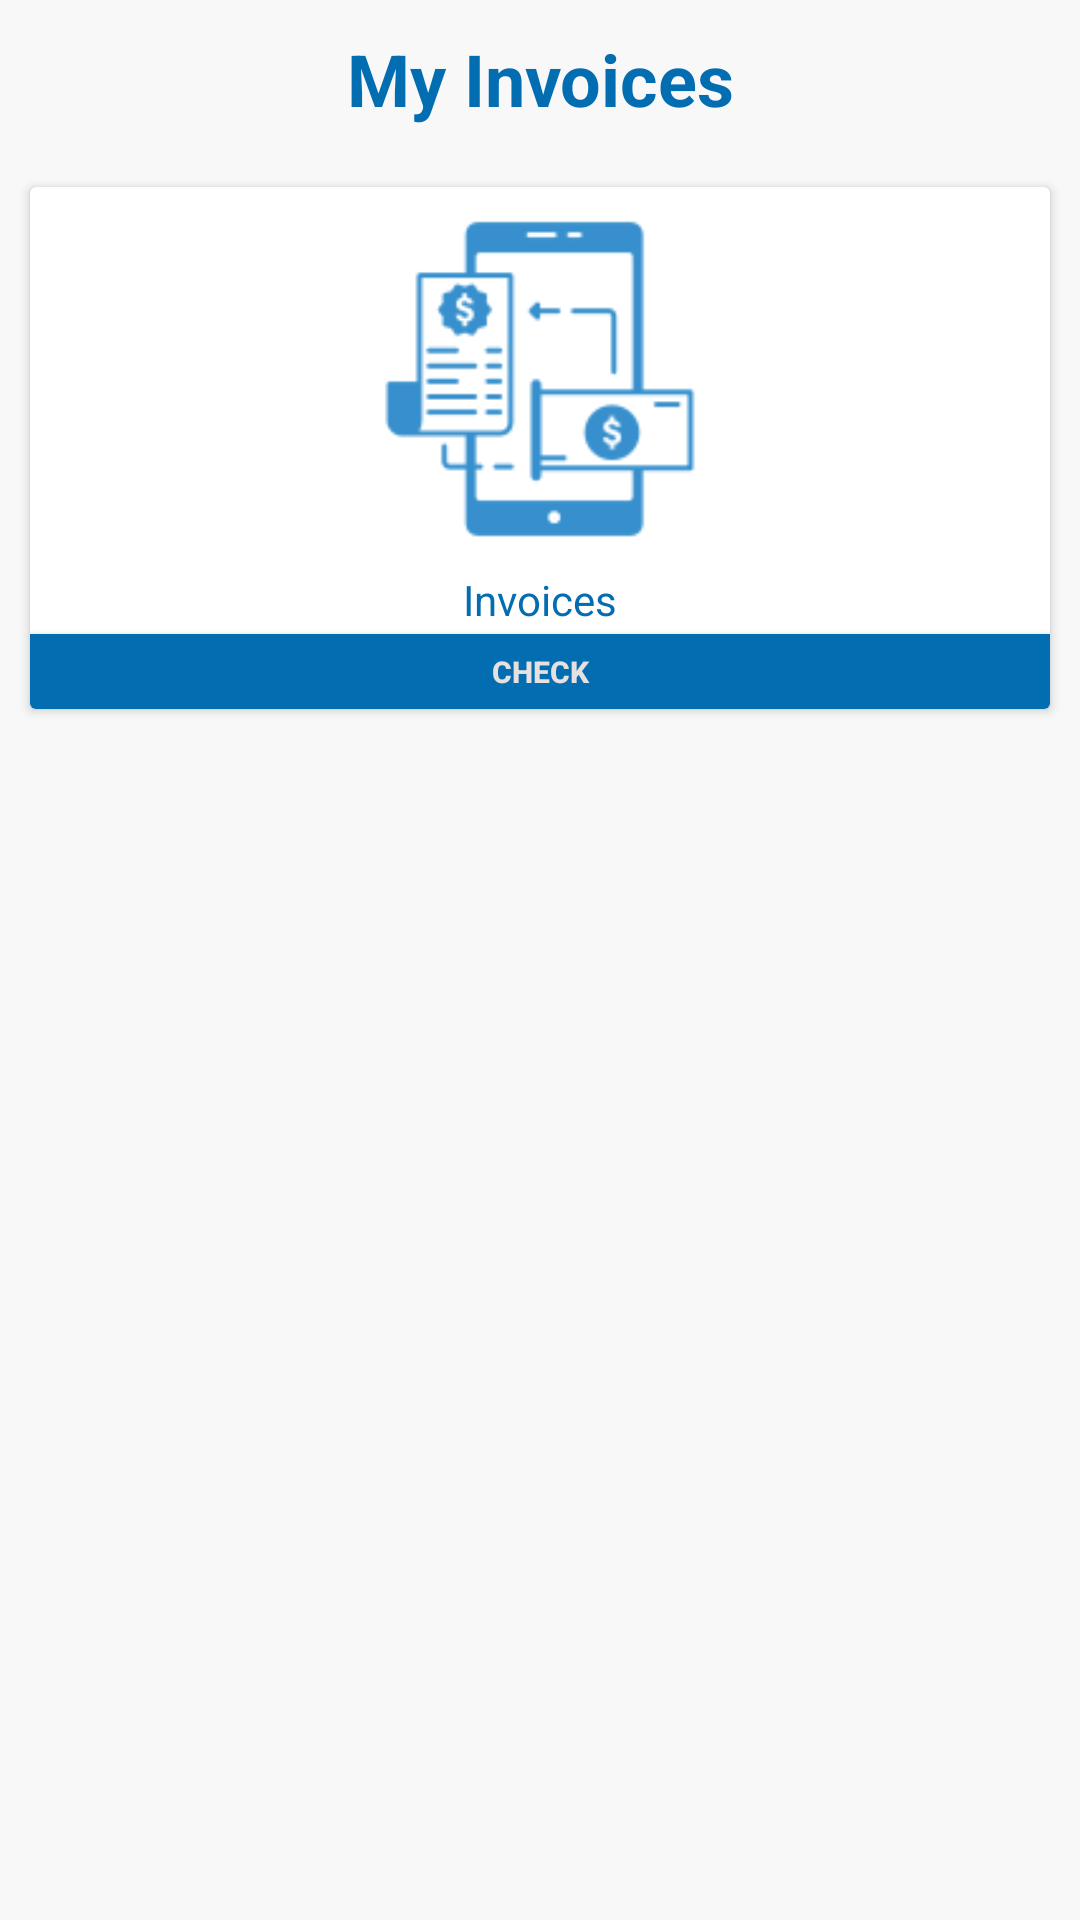

Icon bounding boxes for this 1080px×1920px phone screenshot, format [left=x1, top=y1, right=x2, bottom=y2]:
billingdepartment: [left=385, top=221, right=695, bottom=537]
